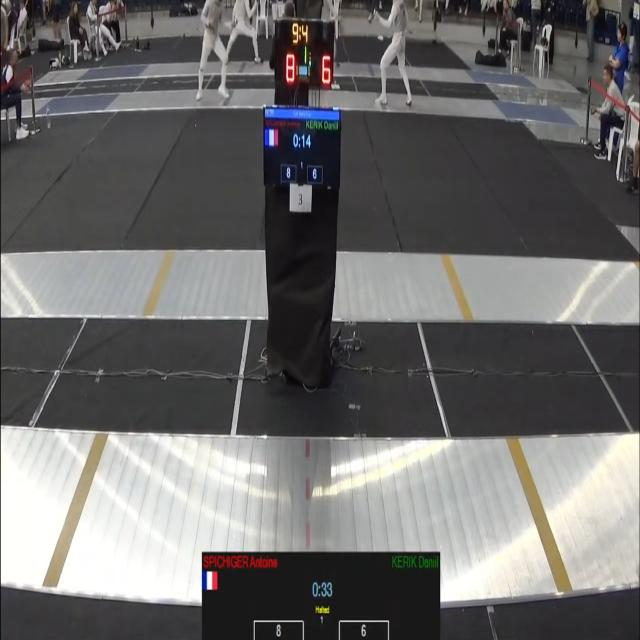overlayLeft: (204, 553, 308, 614)
overlayRight: (338, 554, 440, 616)
scoreLeft: (269, 622, 300, 640)
scoreRight: (342, 623, 375, 639)
